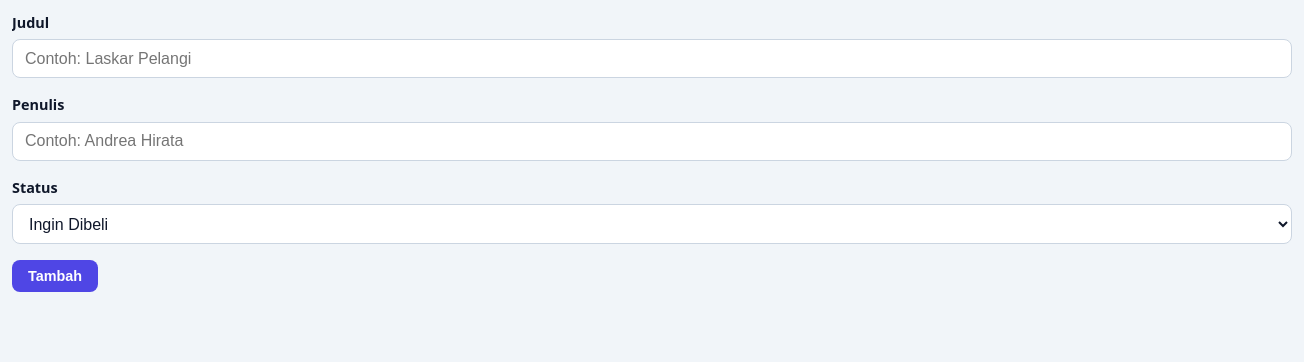
Test case: BookForm (error handling) › menampilkan pesan error + gaya merah dan TIDAK submit jika kolom kosong
This screenshot has width=1304, height=362.
Click the button "Tambah" at (55, 276), box [12, 260, 98, 292]
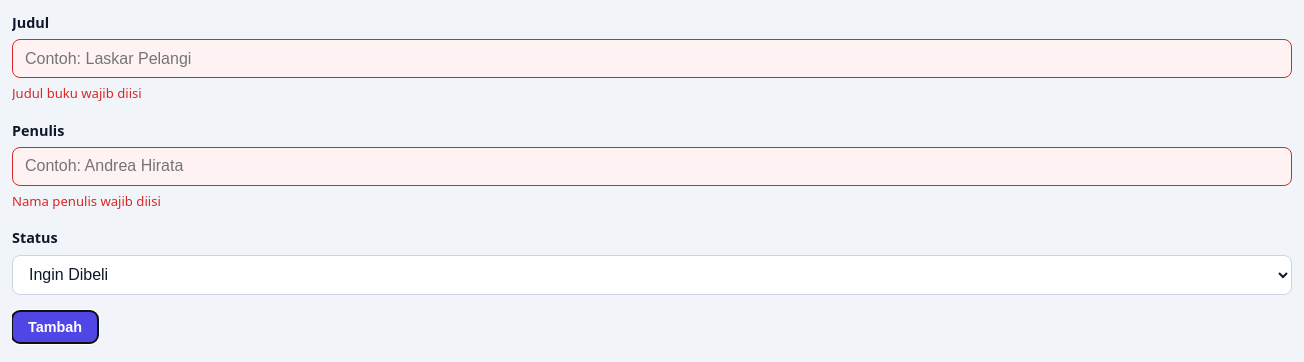
Expected: the text "Judul buku wajib diisi" is shown, [12, 84, 142, 102]
Expected: the text "Nama penulis wajib diisi" is shown, [12, 192, 161, 210]
